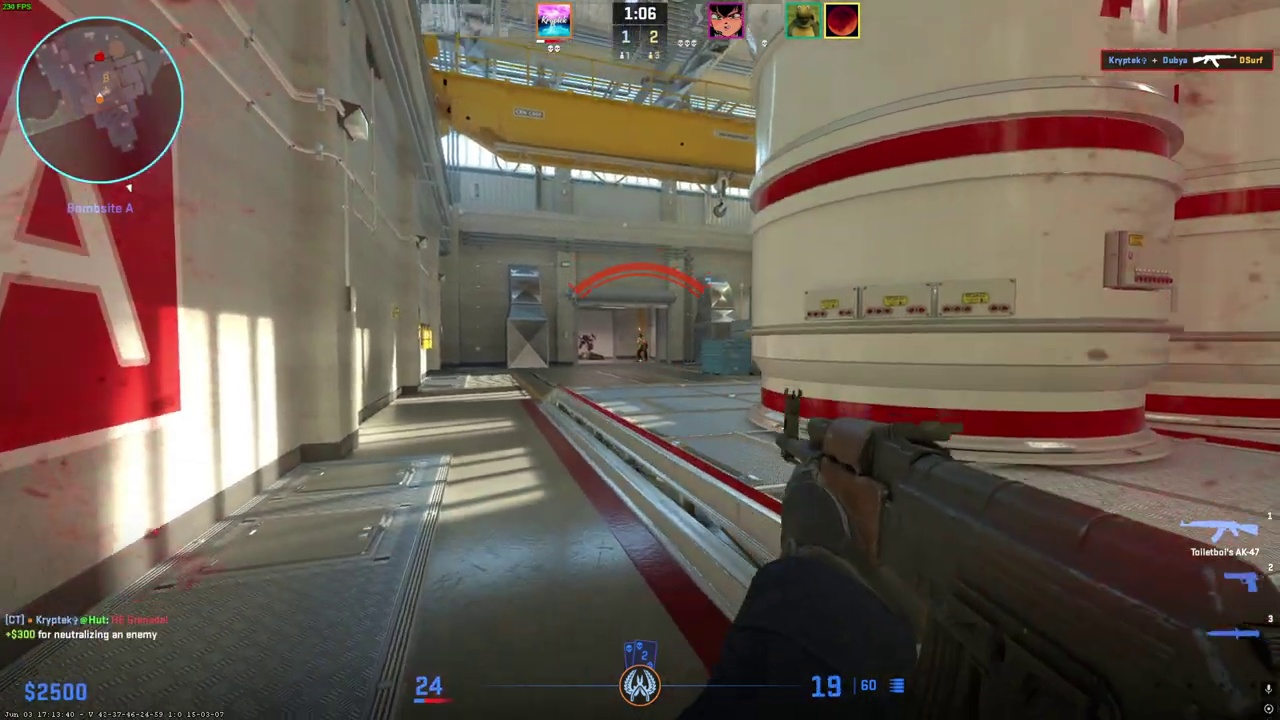Terrorist: (636, 333, 648, 362)
